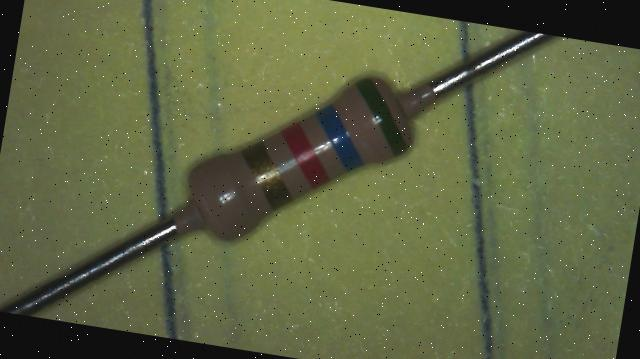blue: (309, 102, 372, 172)
gold: (236, 140, 300, 212)
green: (346, 76, 416, 156)
red: (274, 121, 337, 190)
resistor: (154, 44, 455, 276)
